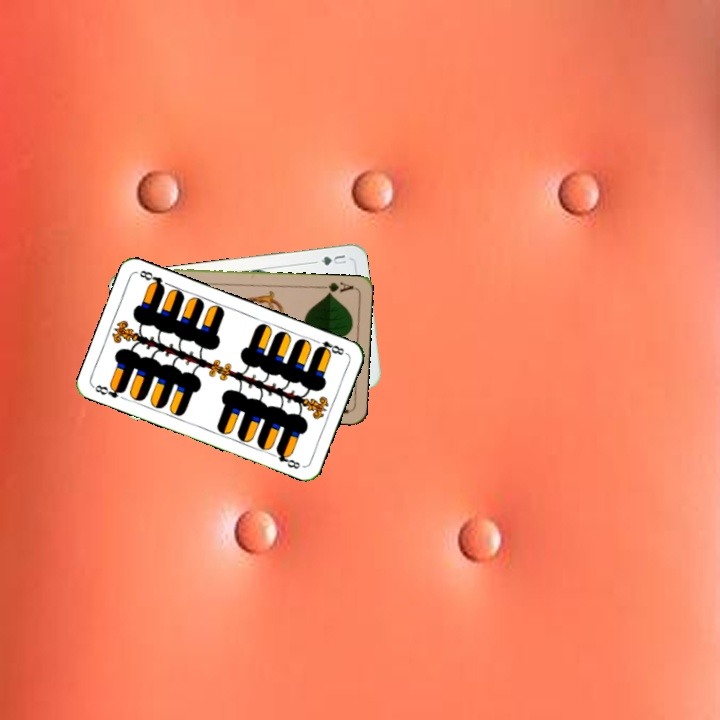E8: (310, 335, 347, 358), (90, 381, 128, 401)
GA: (316, 278, 356, 298)
GU: (317, 251, 349, 268)
